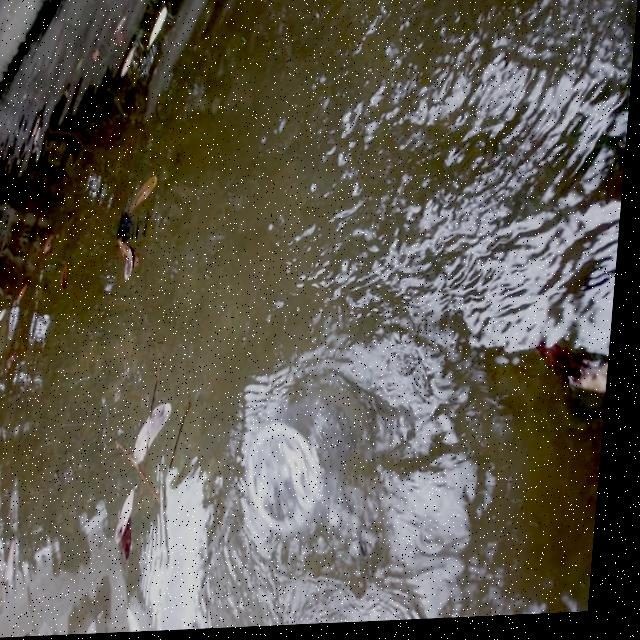leaf: (534, 334, 617, 417), (121, 393, 196, 465), (109, 480, 161, 577), (121, 169, 177, 225), (107, 243, 161, 286)
waterbottle: (243, 384, 382, 575)
